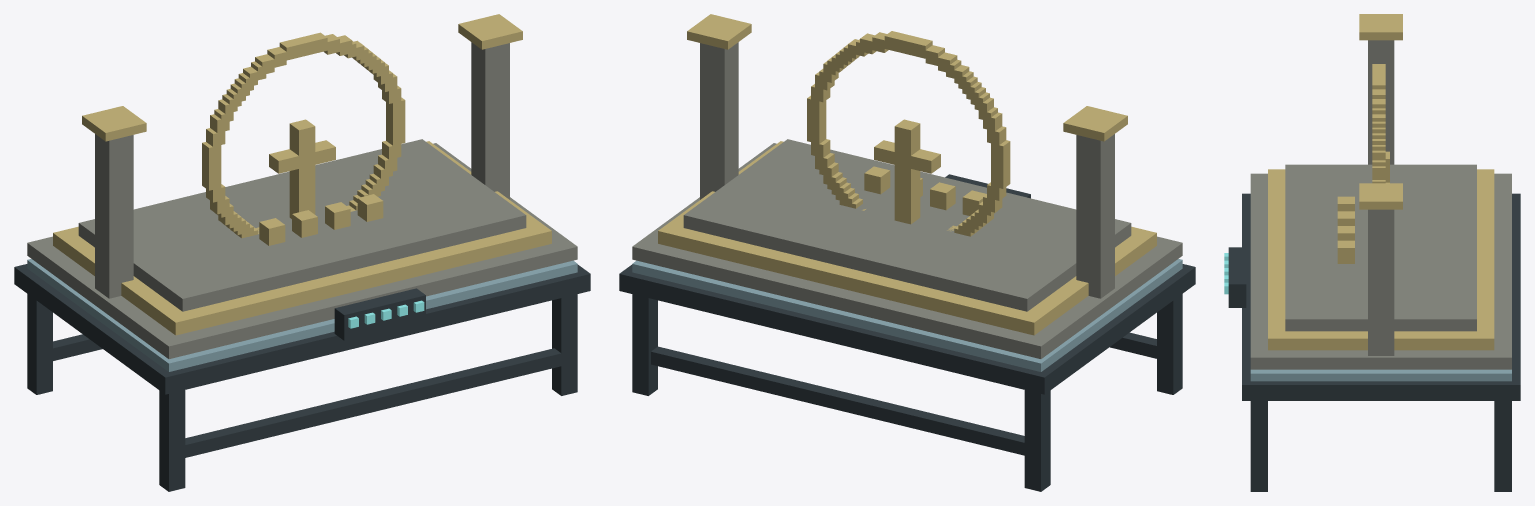
Rendered from sanctity_station_t10.glb.
3 renders of one model, left to right at view 1: azimuth 30°, elevation 25°; view 2: azimuth 150°, elevation 25°; view 3: azimuth 270°, elevation 25°, orthographic. The views are drawn at different scales.
Visible parts, largest first — view 1: sanctity_station_t10/work_surface, sanctity_station_t10/reliquary, sanctity_station_t10/frame; view 2: sanctity_station_t10/work_surface, sanctity_station_t10/reliquary, sanctity_station_t10/frame; view 3: sanctity_station_t10/work_surface, sanctity_station_t10/frame, sanctity_station_t10/reliquary.
Part boxes in pixels (x1,y1,x2,y2): sanctity_station_t10/work_surface: (27, 139, 577, 371); sanctity_station_t10/reliquary: (82, 14, 522, 298); sanctity_station_t10/frame: (14, 264, 590, 491); sanctity_station_t10/work_surface: (632, 139, 1182, 371); sanctity_station_t10/reliquary: (687, 14, 1127, 298); sanctity_station_t10/frame: (619, 264, 1195, 491); sanctity_station_t10/work_surface: (1224, 164, 1511, 381); sanctity_station_t10/frame: (1242, 193, 1520, 491); sanctity_station_t10/reliquary: (1337, 14, 1402, 355).
Bounding box in the file's own units: 3.25 × 2.56 × 2.12.
